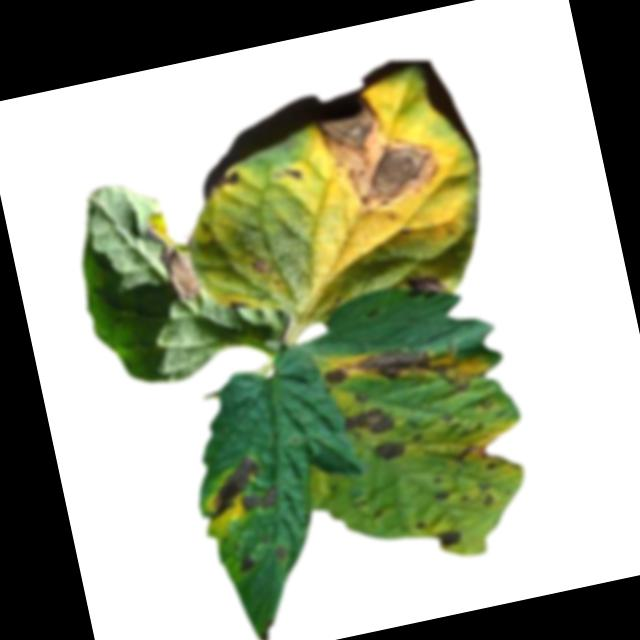Early_blight: (308, 79, 451, 222), (350, 336, 459, 402), (146, 205, 205, 306), (203, 456, 266, 519), (340, 401, 398, 442), (404, 268, 450, 302), (200, 170, 245, 204), (239, 484, 282, 516), (373, 435, 413, 466), (451, 440, 491, 467), (433, 528, 466, 553), (322, 365, 350, 390), (283, 164, 309, 186), (252, 256, 273, 279), (237, 555, 260, 574), (480, 492, 500, 509), (273, 543, 289, 563)
